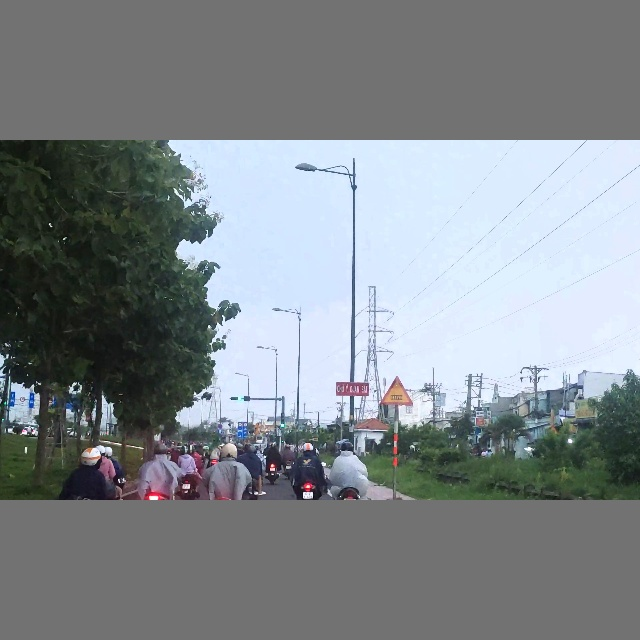W.210: (381, 376, 413, 405)
